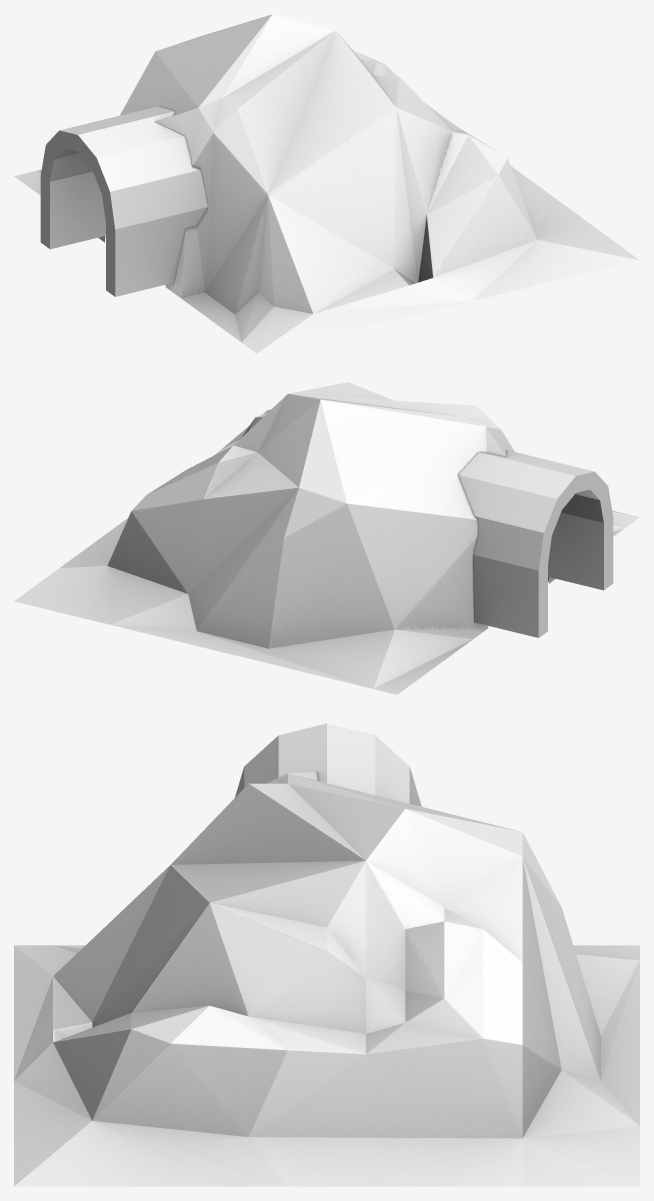
File: Tunnel.FBX
The picture shows the model from 3 angles, top to bottom: view 1: azimuth 30°, elevation 25°; view 2: azimuth 150°, elevation 25°; view 3: azimuth 270°, elevation 25°; orthographic projection. The views are drawn at different scales.
Visible parts, largest first — view 1: m_Tunnel; view 2: m_Tunnel; view 3: m_Tunnel.
Boxes of the visible parts, <box> form: m_Tunnel: <box>14,14,639,353</box>; m_Tunnel: <box>14,382,639,694</box>; m_Tunnel: <box>14,723,639,1186</box>.
Size of the model in its own units: 1368 by 1305 by 557.
